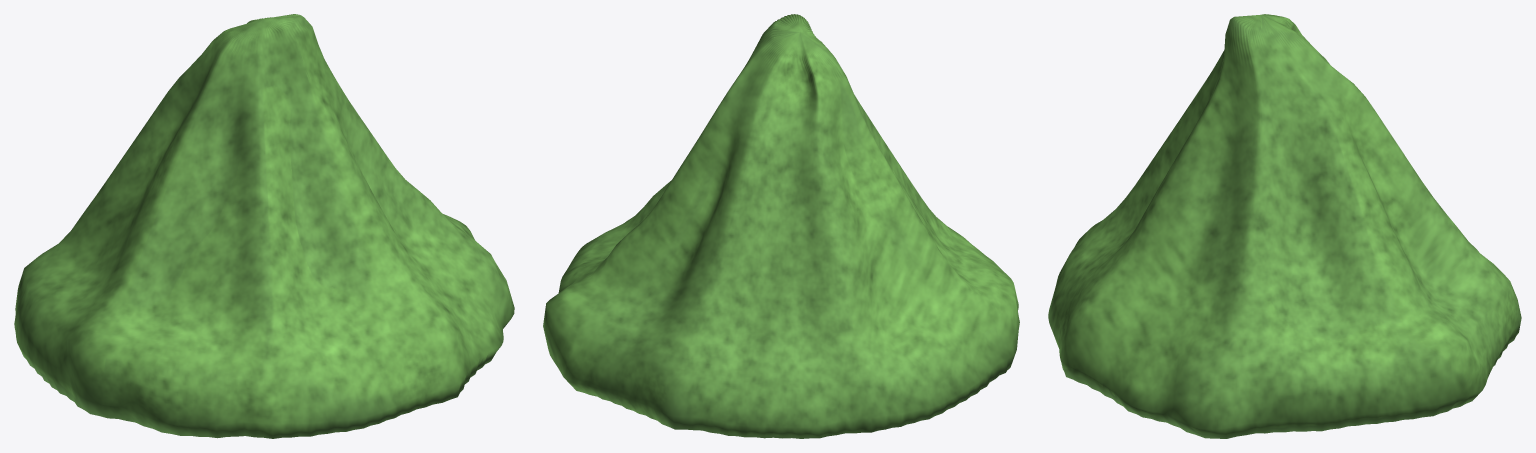
Rendered from Vasabi.fbx.
3 views of the same model, side by side, from view 1: azimuth 30°, elevation 25°; view 2: azimuth 150°, elevation 25°; view 3: azimuth 270°, elevation 25° (orthographic). The views are drawn at different scales.
Visible parts, largest first — view 1: Vasabi; view 2: Vasabi; view 3: Vasabi.
Part boxes in pixels (x1,y1,x2,y2): Vasabi: (14, 14, 514, 438); Vasabi: (543, 14, 1019, 438); Vasabi: (1048, 14, 1521, 438).
Size of the model in its own units: 284 by 219 by 279.
